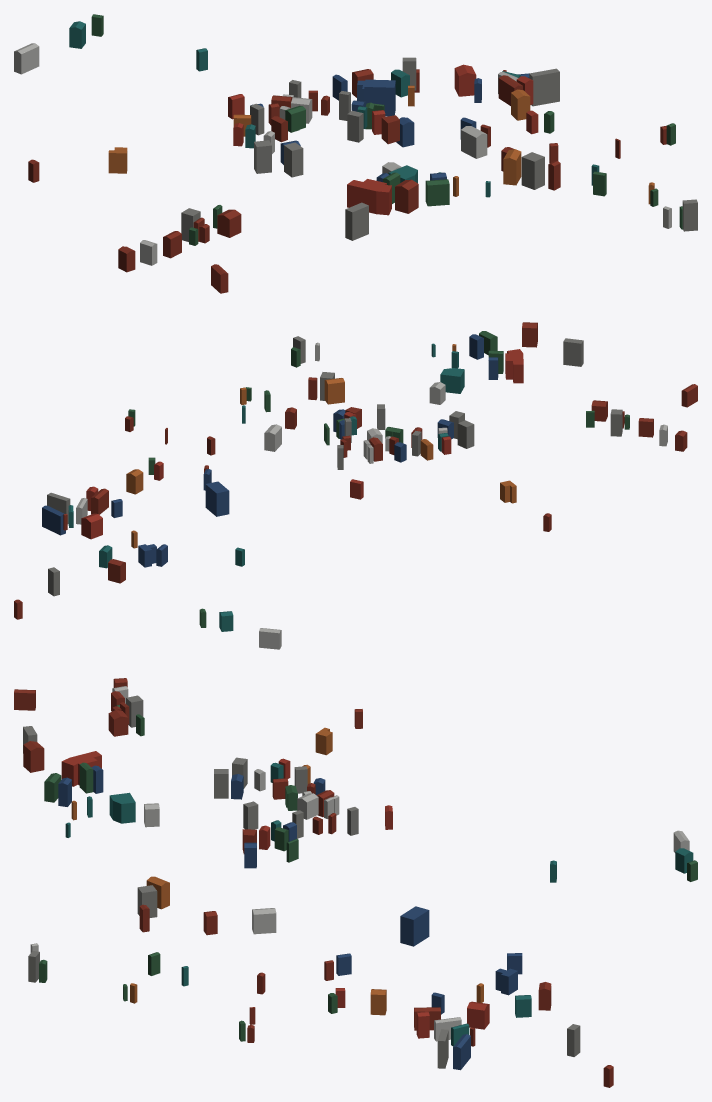
Rendered from near-16-54722-29726.bbd2f164.glb.
3 views of the same model, one above another, from view 1: azimuth 30°, elevation 25°; view 2: azimuth 150°, elevation 25°; view 3: azimuth 270°, elevation 25° (orthographic). The views are drawn at different scales.
Size of the model in its own units: 560 by 184 by 578.
